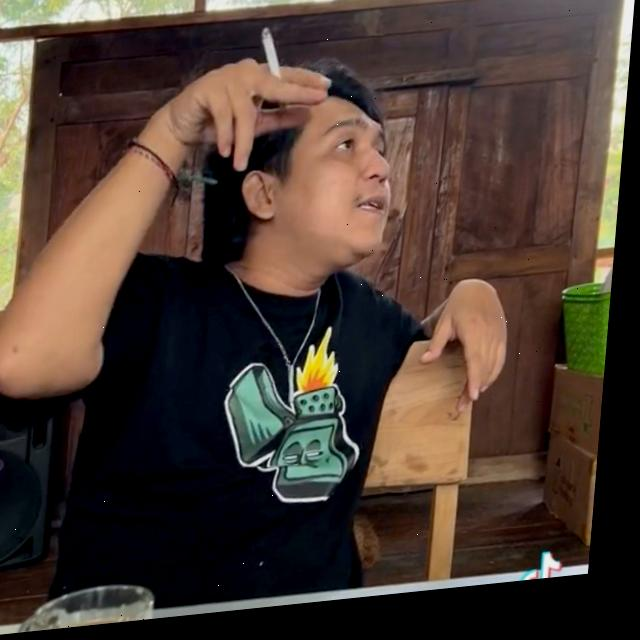cigarette: (259, 32, 286, 88)
